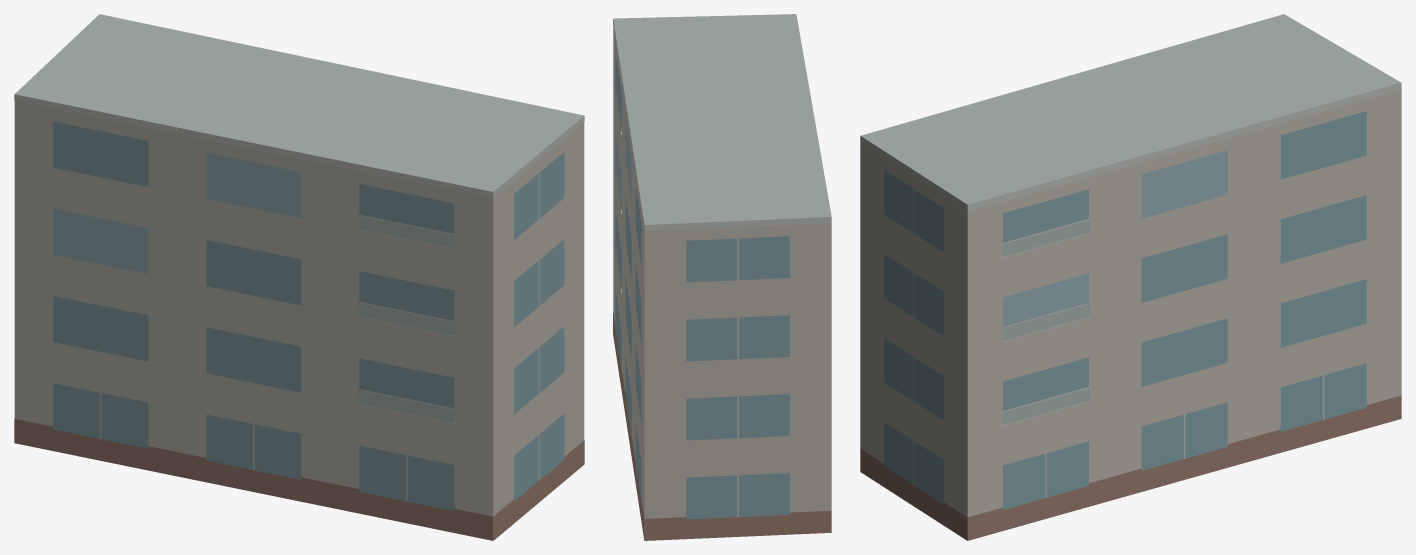
Rendered from survey-upis-33015623.glb.
3 renders of one model, left to right at view 1: azimuth 30°, elevation 25°; view 2: azimuth 150°, elevation 25°; view 3: azimuth 270°, elevation 25°, orthographic. The views are drawn at different scales.
Visible parts, largest first — view 1: survey-upis-33015623.tmp; view 2: survey-upis-33015623.tmp; view 3: survey-upis-33015623.tmp.
Part boxes in pixels (x1=…): survey-upis-33015623.tmp: x1=14, y1=14, x2=584, y2=540; survey-upis-33015623.tmp: x1=613, y1=14, x2=831, y2=540; survey-upis-33015623.tmp: x1=860, y1=14, x2=1401, y2=540.
Bounding box in the file's own units: 15.1 × 12.4 × 18.1.
